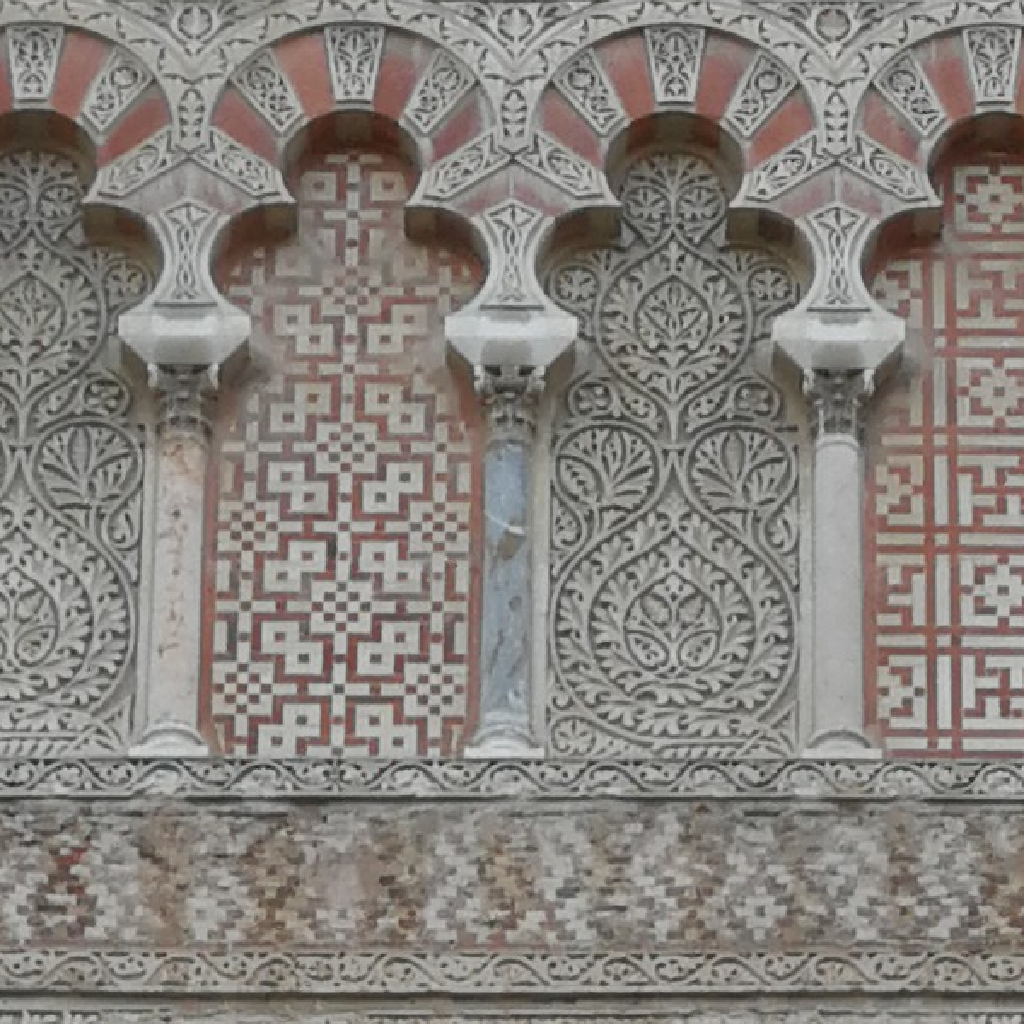arco-lobulado: (511, 86, 845, 405), (183, 84, 511, 398), (845, 91, 1024, 407), (1, 84, 181, 398)
